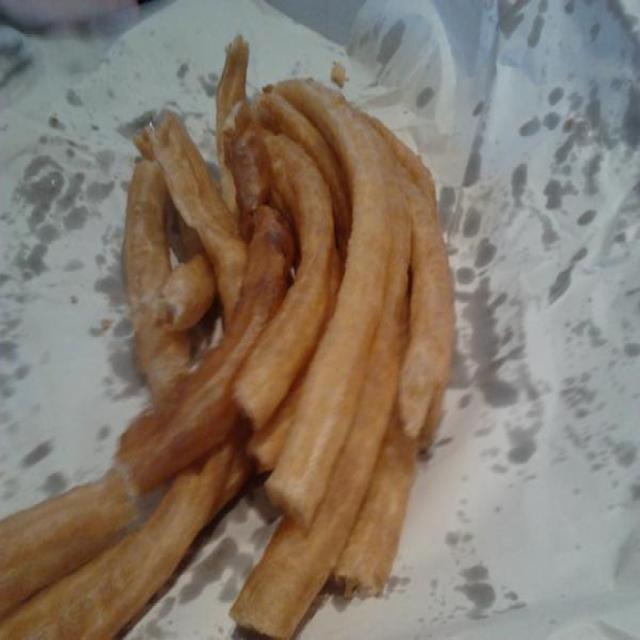炸货点心: (34, 68, 472, 637)
